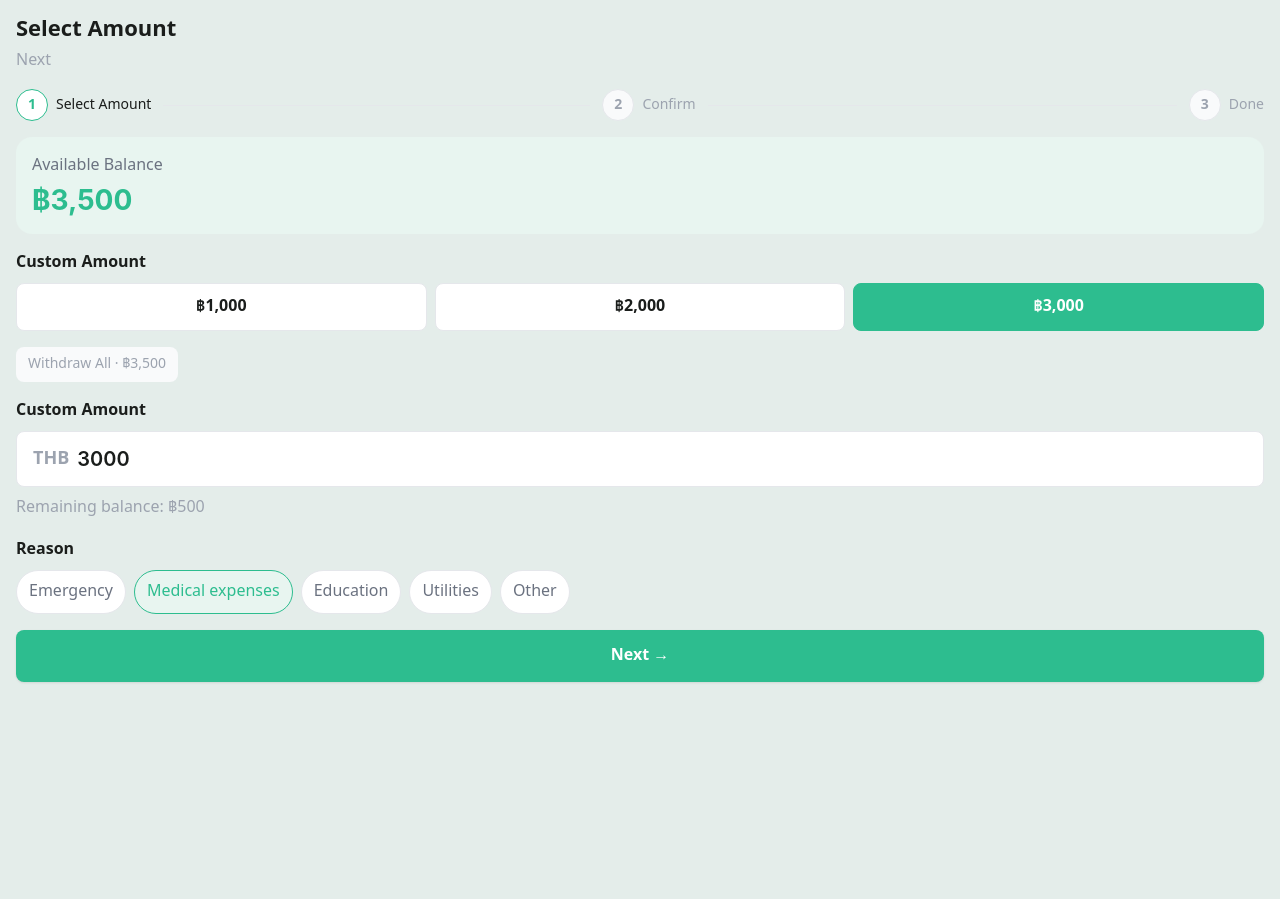
Scenario: EmployeeRequestPage — step 1 › advances to step 2 when Next is clicked with valid amount
Click the button "Next →" at (640, 656), box [16,630,1264,682]
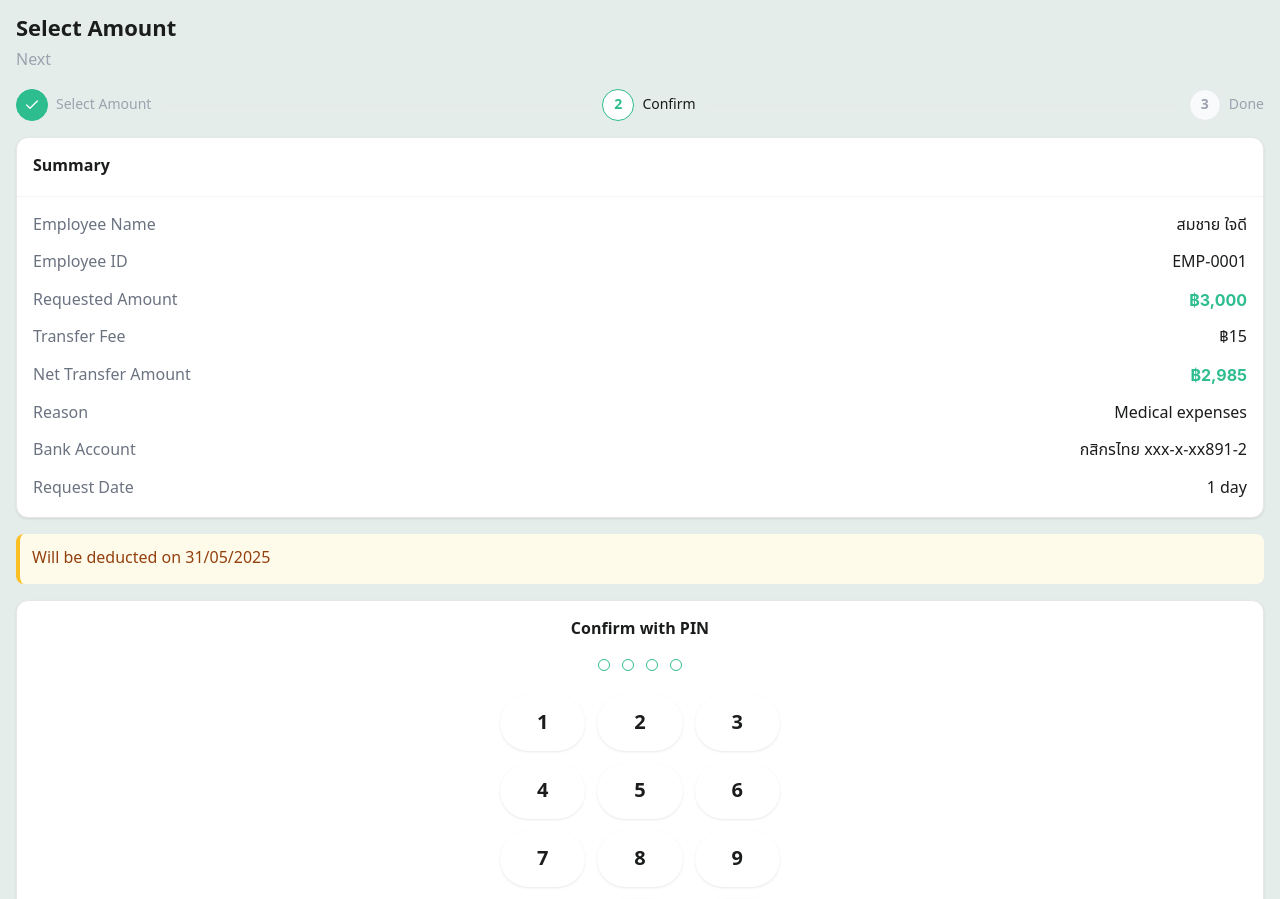
Now the text "Summary" is shown, box [17,138,1263,197]
